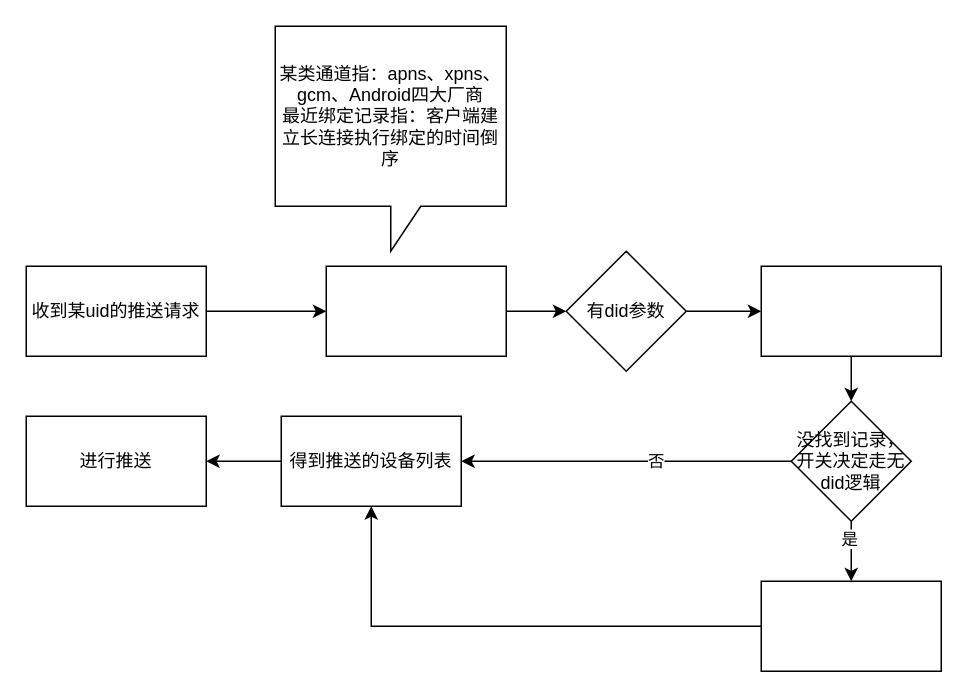
This 968x698 diagram has some shape labels left out. Here are the shapes that lost their labels. From the top down, the centre of each, then its label:
At (415,310): "获取该uid某类通道的最近4个绑定记录".
At (850,310): "根据did过滤绑定记录 以及有效期等过滤".
At (850,625): "不使用did，只用有效期等其他条件过滤记录".
